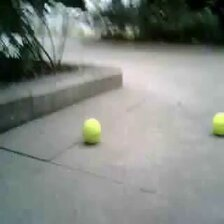tennis: (82, 119, 102, 143), (211, 111, 224, 134)
